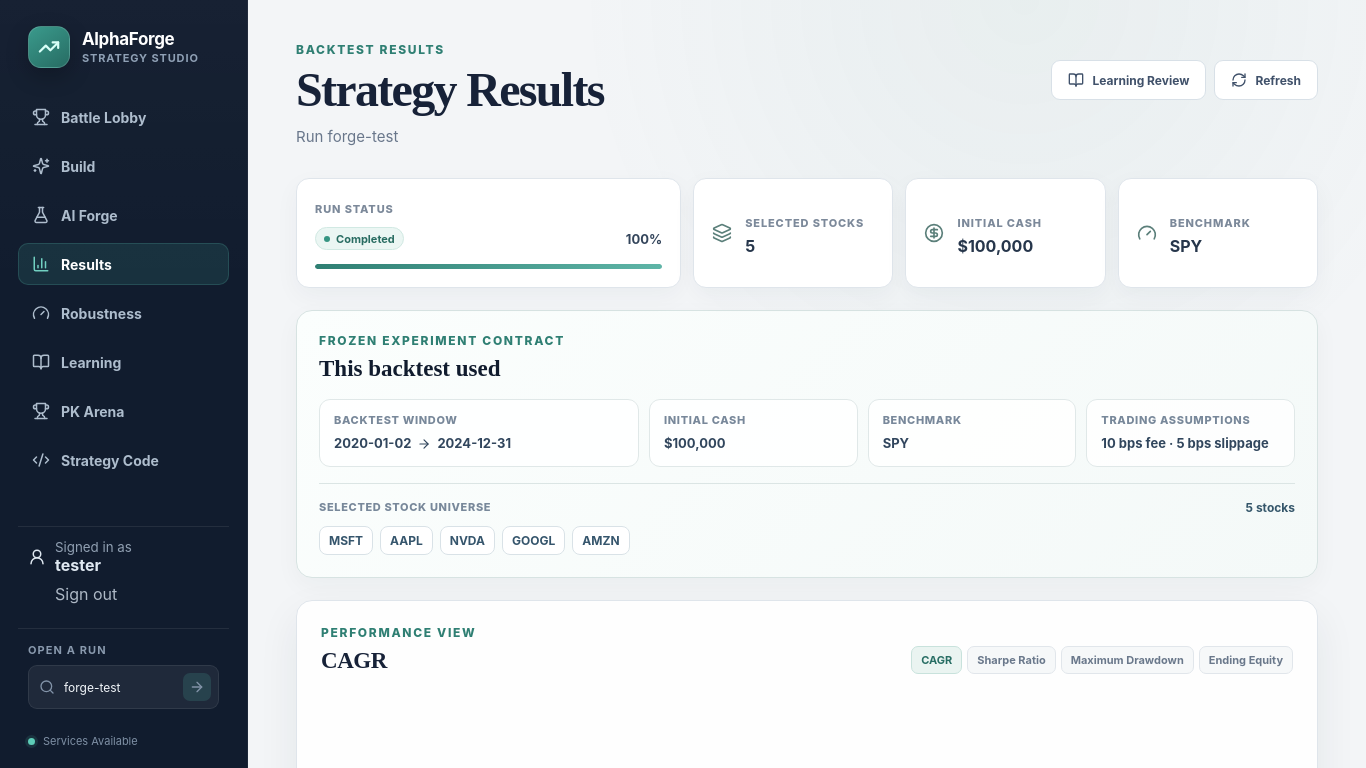
Test: AlphaForge Studio › highlights and copies complete strategy source
The image size is (1366, 768).
Expected: the heading "Strategy Results" is shown, [296,65,604,115]
Click the button "Strategy Code". click: (124, 460)
box: [18,439,229,481]
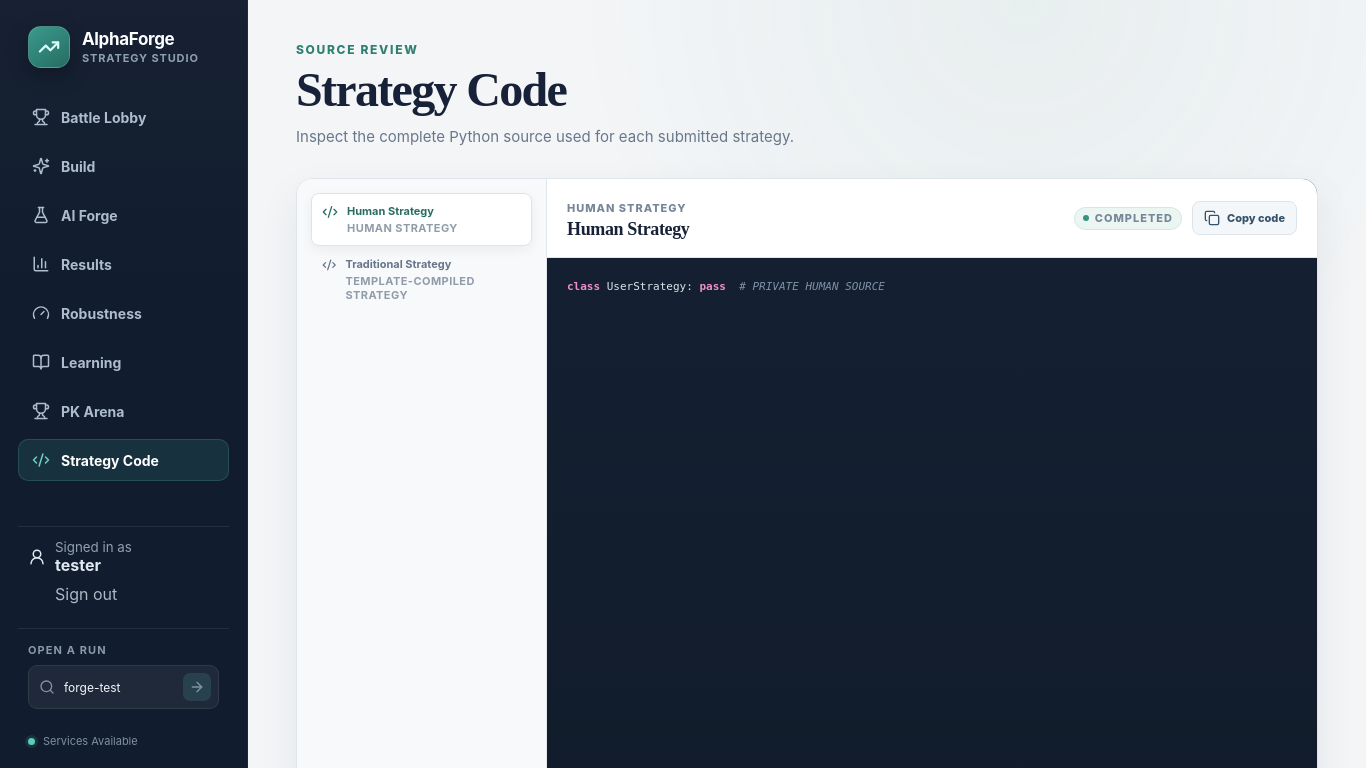
Expected: the text "class" is shown, [567,280,600,293]
Click the button "Copy code". click: (1244, 218)
box: [1192,201,1297,235]
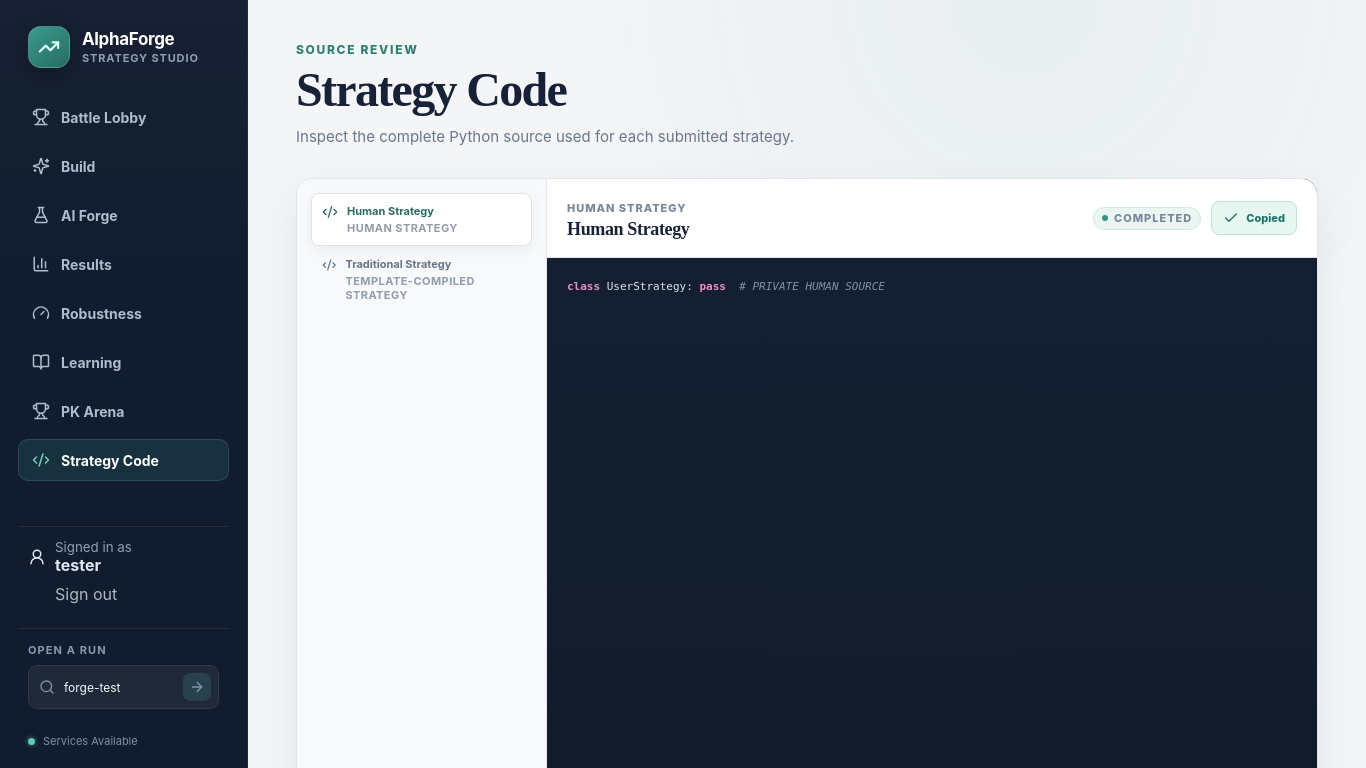
Expected: the button "Copied" is shown, [1211,201,1297,235]
